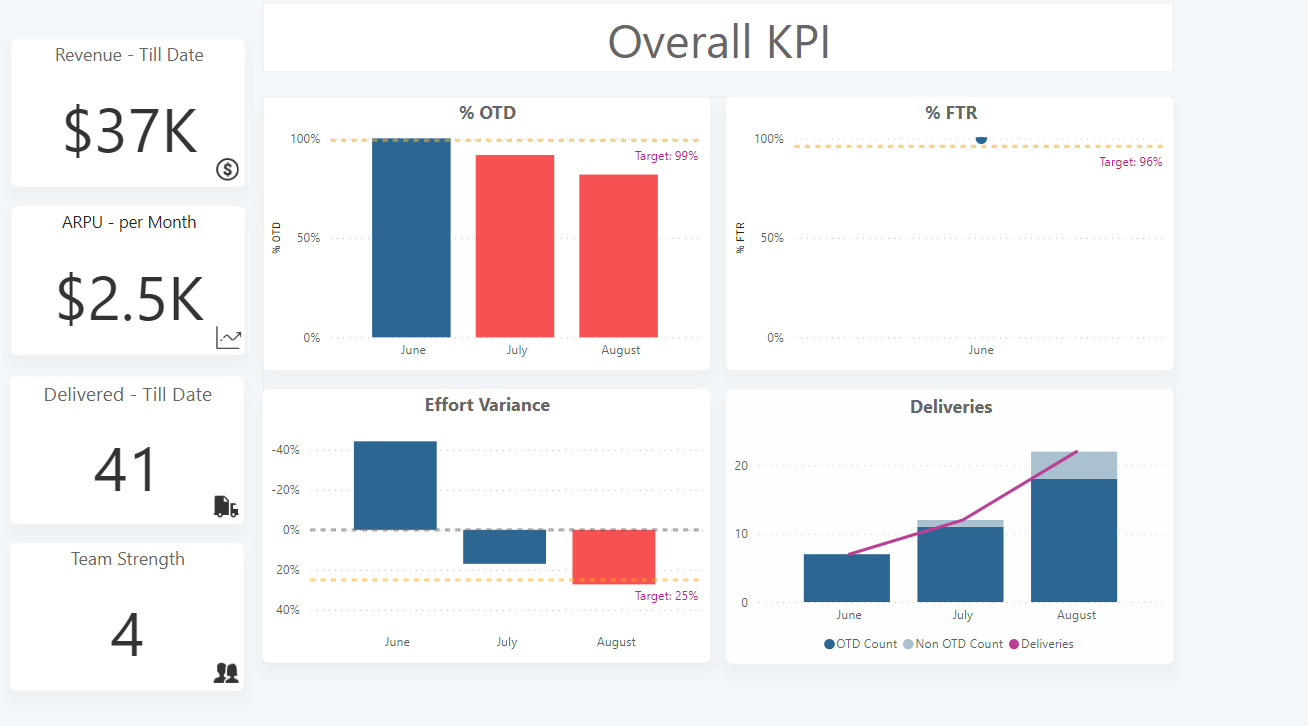

The dashboard page shown, as its layout file describes it:
{"tool":"powerbi","page":{"name":"KPI","canvas":[1280,720],"ordinal":0},"visuals":[{"type":"group","id":"g1","title":"Group 1","box":[262.9,98.6,879.2,547.5],"z":0},{"type":"columnChart","title":"% OTD","fields":{"Category":["Date Table.Month Name"],"Y":["Task Tracker.% OTD"]},"box":[262.9,98.6,431.8,264.1],"z":0,"group":"g1"},{"type":"group","id":"g2","title":"Group 2","box":[19.3,43.6,226.7,628.3],"z":1000},{"type":"columnChart","title":"% FTR ","fields":{"Category":["Date Table.Month Name"],"Y":["Task Tracker.% FTR"]},"box":[710.3,98.6,432,264.1],"z":1000,"group":"g1"},{"type":"card","fields":{"Values":["Task Tracker.Title Box"]},"box":[262.9,8.4,879.2,67.5],"z":2000},{"type":"columnChart","title":"Effort Variance","fields":{"Category":["Date Table.Month Name"],"Y":["Task Tracker.Effort Variance"]},"box":[262.9,380.8,431.8,264.1],"z":2000,"group":"g1"},{"type":"image","box":[213.5,152,31.4,33.8],"z":3000},{"type":"lineStackedColumnComboChart","title":"Deliveries","fields":{"Category":["Date Table.Month Name"],"Y":["Task Tracker.OTD Count","Task Tracker.Non OTD Count"],"Y2":["Task Tracker.Deliveries"]},"box":[710.3,382,431.8,264.1],"z":3000,"group":"g1"},{"type":"card","fields":{"Values":["Project.Revenue2"]},"box":[20.5,43.6,225.5,142.3],"z":4000,"group":"g2"},{"type":"image","box":[213.5,313.6,33.8,33.8],"z":4000},{"type":"image","box":[211.1,477.6,33.8,33.8],"z":5000},{"type":"card","title":"Team Strength","fields":{"Values":["Count(Daily Tracker + Attendance.EMPID)"]},"box":[19.3,529.6,225.5,142.3],"z":5000,"group":"g2"},{"type":"card","fields":{"Values":["Project.ARPU"]},"box":[20.6,204.9,225.2,142.8],"z":6000,"group":"g2"},{"type":"image","box":[211.1,638,33.8,33.8],"z":6000},{"type":"card","fields":{"Values":["Task Tracker.Deliveries"]},"box":[19.3,369.2,225.5,142.3],"z":7000,"group":"g2"}]}

Visuals, with their boxes in screenshot pixels (x1, y1, x2, y2), scaled from the page's 1280x720 canvas onto the 1308x726 screenshot:
"Group 1" group: (left=269, top=99, right=1167, bottom=651)
"% OTD" columnChart: (left=269, top=99, right=710, bottom=366)
"Group 2" group: (left=20, top=44, right=251, bottom=677)
"% FTR " columnChart: (left=726, top=99, right=1167, bottom=366)
card - Task Tracker.Title Box: (left=269, top=8, right=1167, bottom=77)
"Effort Variance" columnChart: (left=269, top=384, right=710, bottom=650)
image: (left=218, top=153, right=250, bottom=187)
"Deliveries" lineStackedColumnComboChart: (left=726, top=385, right=1167, bottom=651)
card - Project.Revenue2: (left=21, top=44, right=251, bottom=187)
image: (left=218, top=316, right=253, bottom=350)
image: (left=216, top=482, right=250, bottom=516)
"Team Strength" card: (left=20, top=534, right=250, bottom=677)
card - Project.ARPU: (left=21, top=207, right=251, bottom=351)
image: (left=216, top=643, right=250, bottom=677)
card - Task Tracker.Deliveries: (left=20, top=372, right=250, bottom=516)
